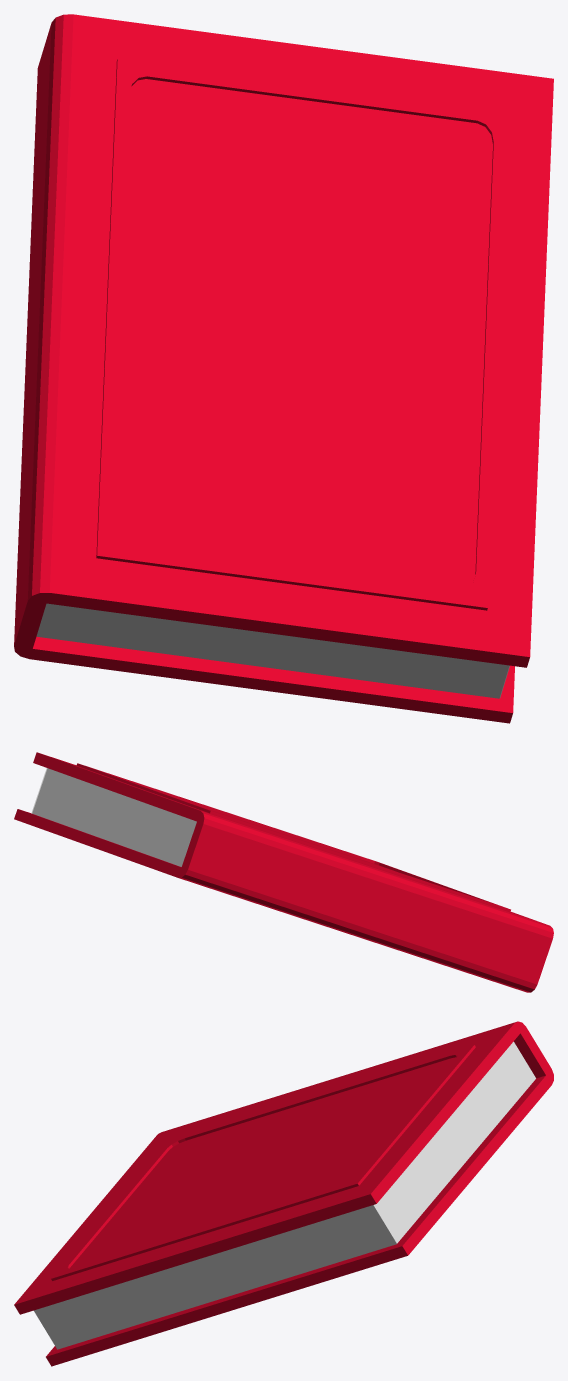
Rendered from red_novel.fbx.
3 renders of one model, top to bottom at view 1: azimuth 30°, elevation 25°; view 2: azimuth 150°, elevation 25°; view 3: azimuth 270°, elevation 25°, orthographic. The views are drawn at different scales.
Visible parts, largest first — view 1: Cube; view 2: Cube; view 3: Cube.
Boxes of the visible parts, x1=… form: Cube: x1=14, y1=14, x2=553, y2=723; Cube: x1=14, y1=752, x2=553, y2=992; Cube: x1=14, y1=1021, x2=553, y2=1366.
Size of the model in its own units: 3163 by 2092 by 3251.
